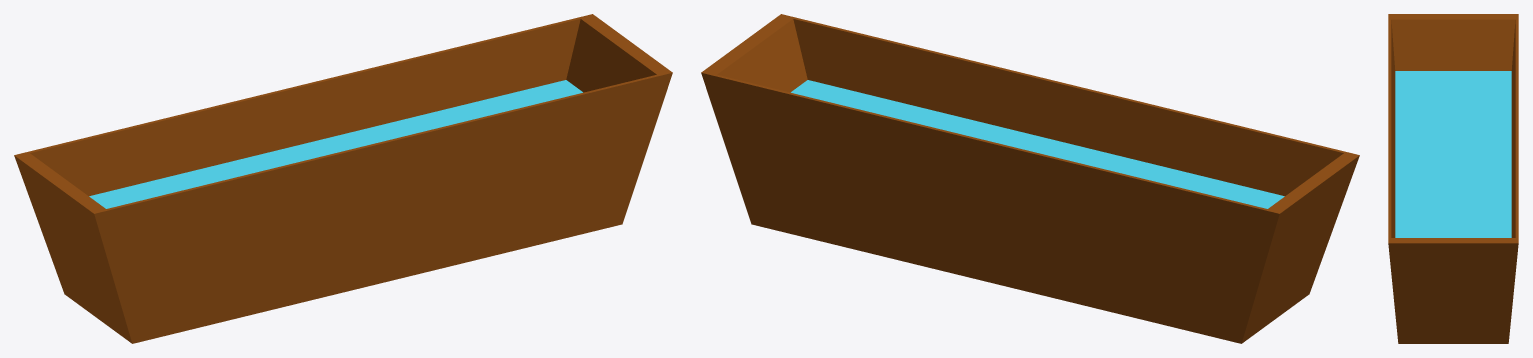
The model's file is bebedero.fbx.
The picture shows the model from 3 angles, left to right: view 1: azimuth 30°, elevation 25°; view 2: azimuth 150°, elevation 25°; view 3: azimuth 270°, elevation 25°; orthographic projection. The views are drawn at different scales.
Parts seen in each view (by area): view 1: Cube, Cube.001; view 2: Cube, Cube.001; view 3: Cube, Cube.001.
Part boxes in pixels (bbox=[...]): Cube: bbox=[14, 14, 672, 343]; Cube.001: bbox=[89, 80, 582, 208]; Cube: bbox=[701, 14, 1359, 343]; Cube.001: bbox=[791, 80, 1284, 208]; Cube: bbox=[1388, 14, 1518, 343]; Cube.001: bbox=[1395, 71, 1511, 237].
Bounding box in the file's own units: 399 × 95.7 × 95.7.
